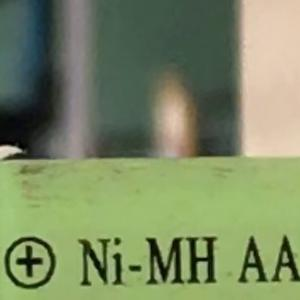NI-MH: (68, 227, 219, 296)
